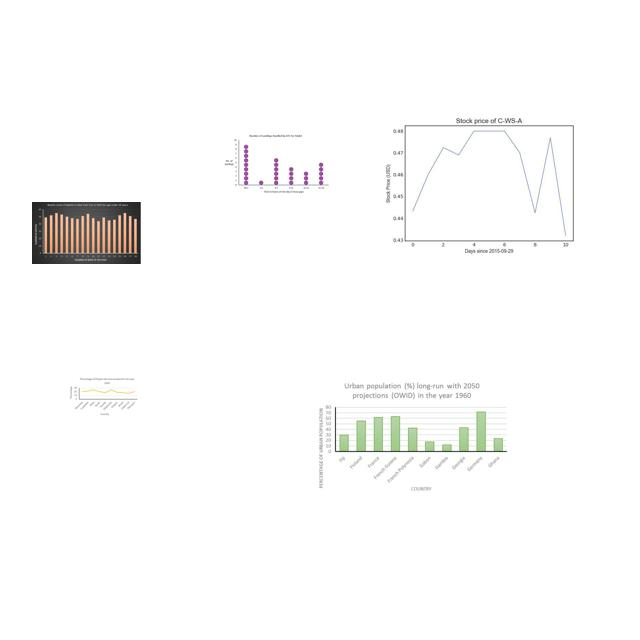Graph: (378, 101, 595, 264), (314, 381, 509, 493), (221, 132, 331, 196), (32, 202, 141, 264), (68, 376, 139, 417)
